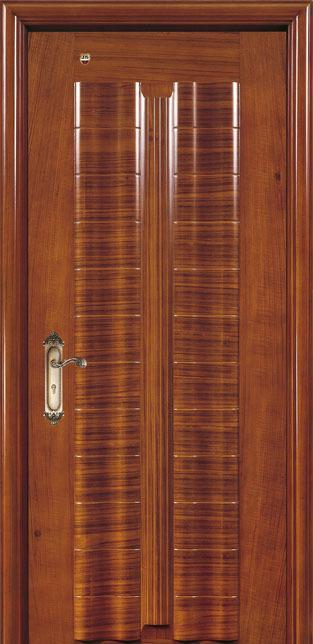door: (23, 28, 289, 644)
